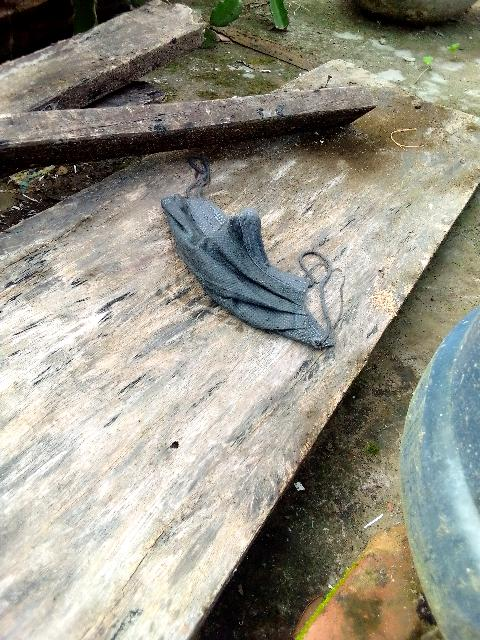mask: (175, 170, 335, 362)
